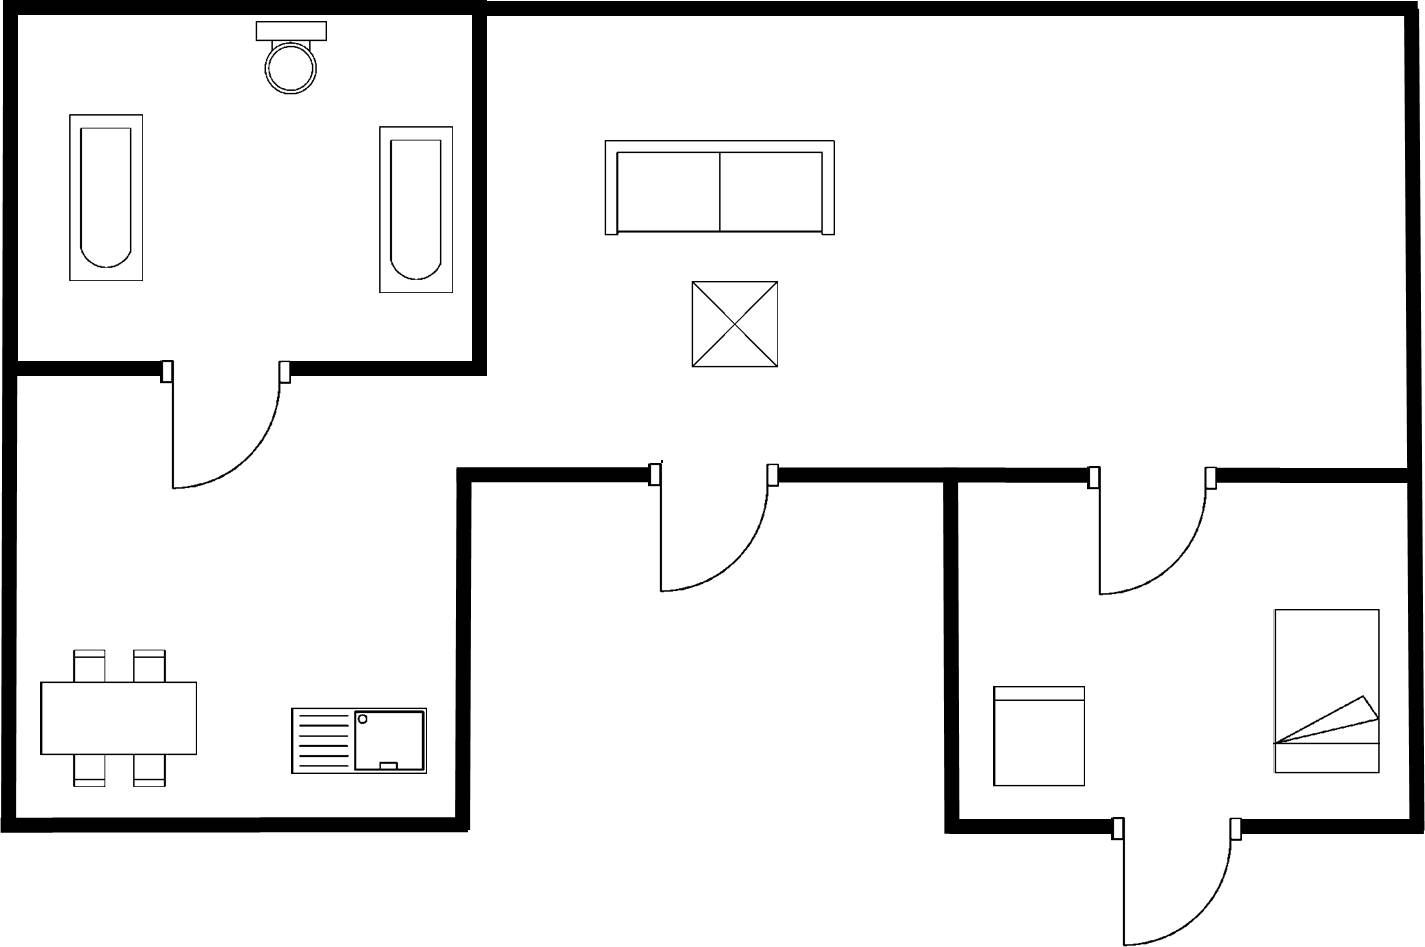bed: (1268, 605, 1384, 779)
coffee_table: (685, 276, 784, 375)
dining_table: (32, 644, 207, 792)
large_sink: (249, 16, 335, 100)
large_sofa: (598, 136, 843, 243)
sink: (283, 700, 432, 782)
small_sofa: (989, 679, 1090, 792)
tub: (60, 108, 147, 291), (373, 122, 458, 300)
